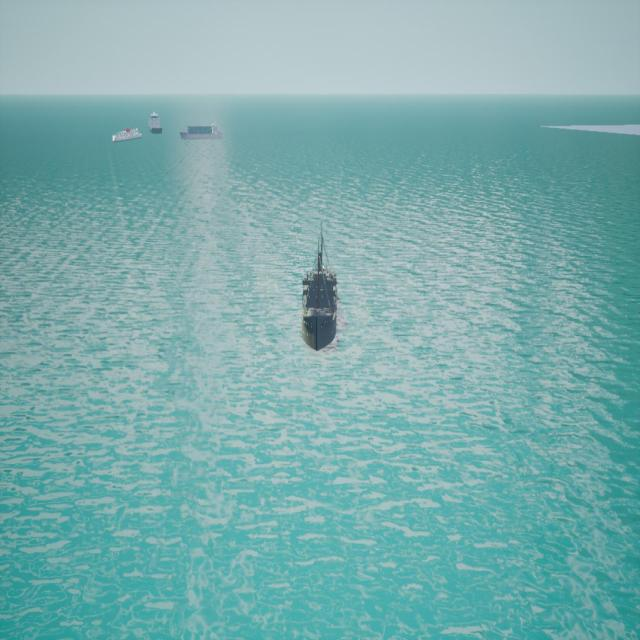fishing ship: (299, 211, 346, 365)
